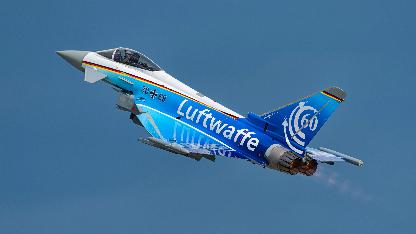E2: (54, 47, 362, 175)
